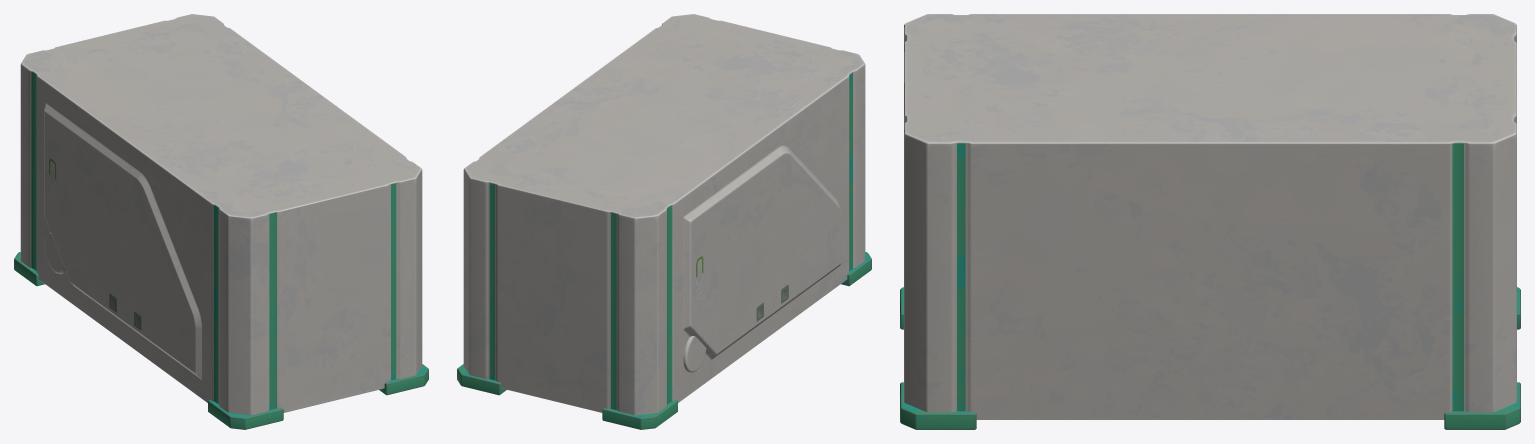
The model's file is SM_Container_01.fbx.
3 renders of one model, left to right at view 1: azimuth 30°, elevation 25°; view 2: azimuth 150°, elevation 25°; view 3: azimuth 270°, elevation 25°, orthographic. The views are drawn at different scales.
Parts seen in each view (by area): view 1: SM_Container_01; view 2: SM_Container_01; view 3: SM_Container_01.
Boxes of the visible parts, x1,y1,x2,y2 form: SM_Container_01: (14, 14, 428, 429); SM_Container_01: (457, 14, 871, 429); SM_Container_01: (900, 14, 1520, 429).
Size of the model in its own units: 207 by 405 by 206.
Materials: 1 (1 with a texture image).
